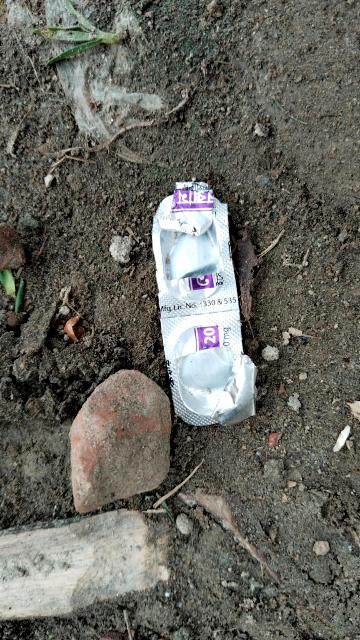medicine: (114, 142, 282, 448), (164, 186, 165, 194)
